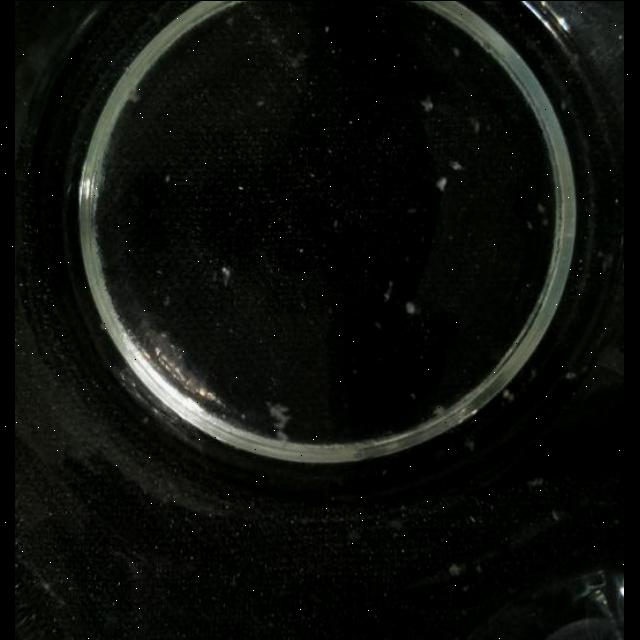Fibre: (268, 401, 292, 434), (221, 264, 233, 284), (421, 96, 435, 112), (382, 281, 393, 301), (503, 387, 517, 401), (433, 403, 447, 417), (471, 117, 483, 133), (406, 300, 418, 314), (449, 158, 463, 170)
microbeads: (449, 562, 463, 576), (436, 176, 448, 190)
